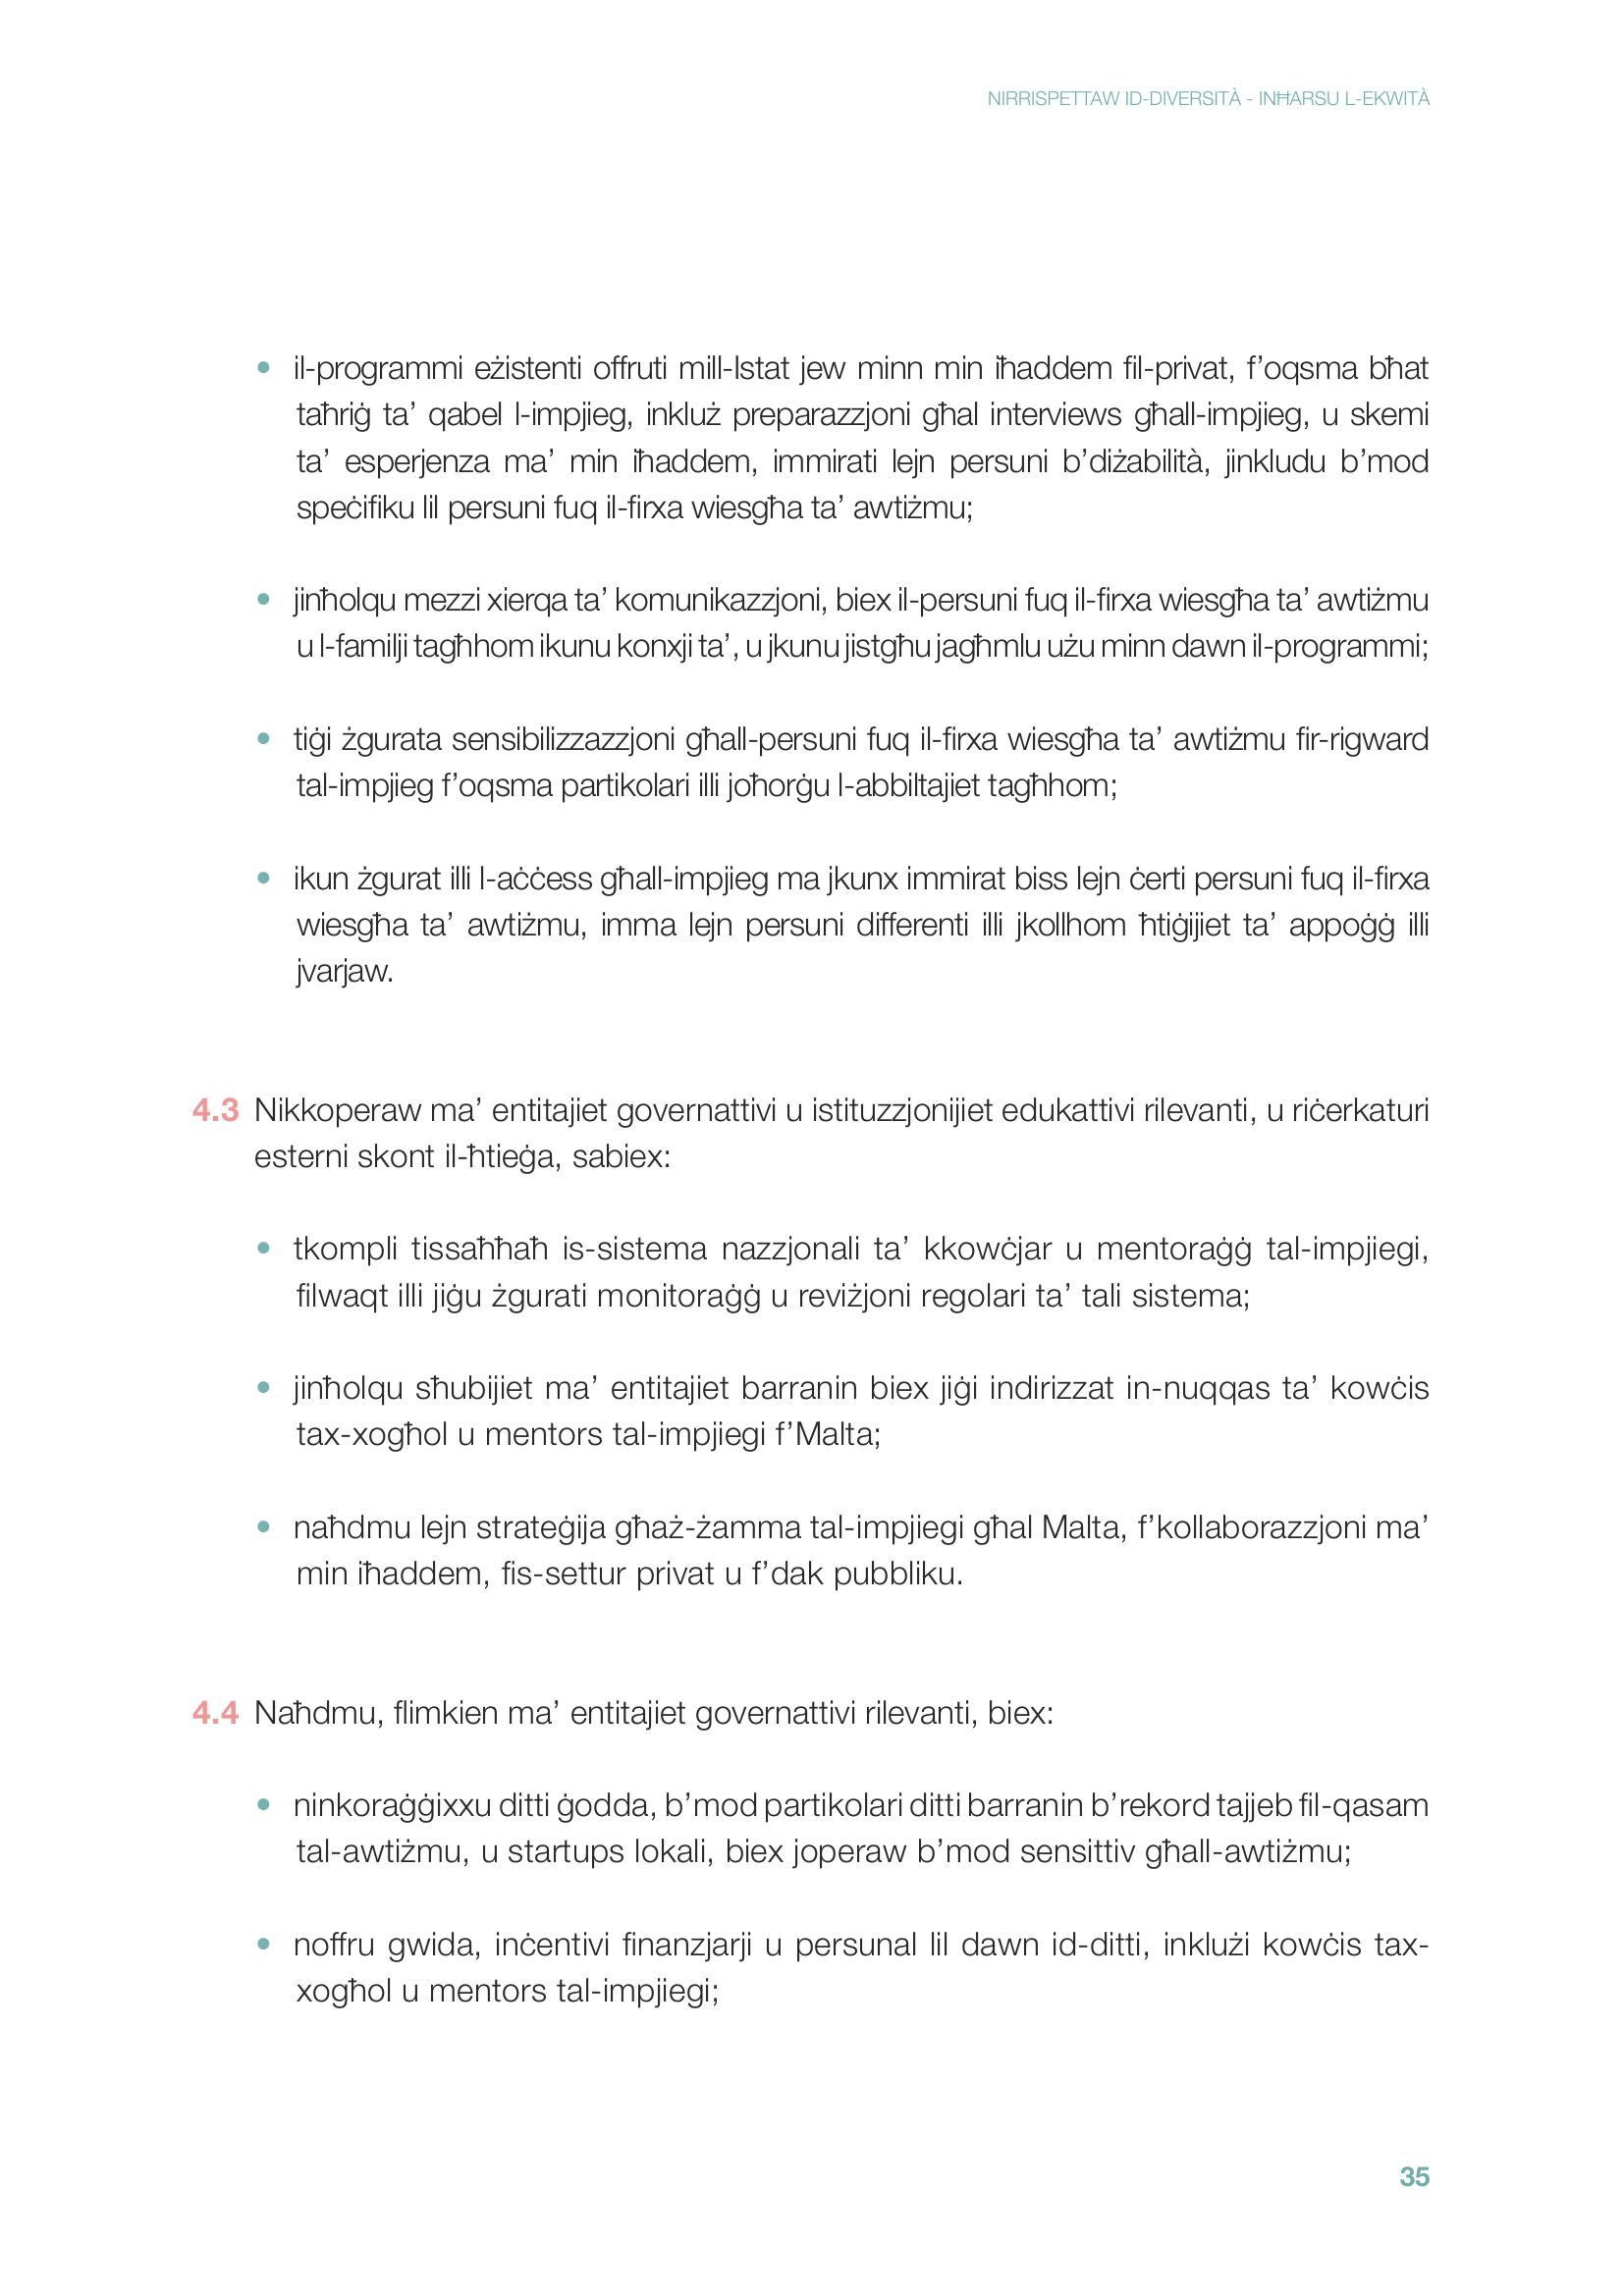text: (174, 329, 1450, 2024)
